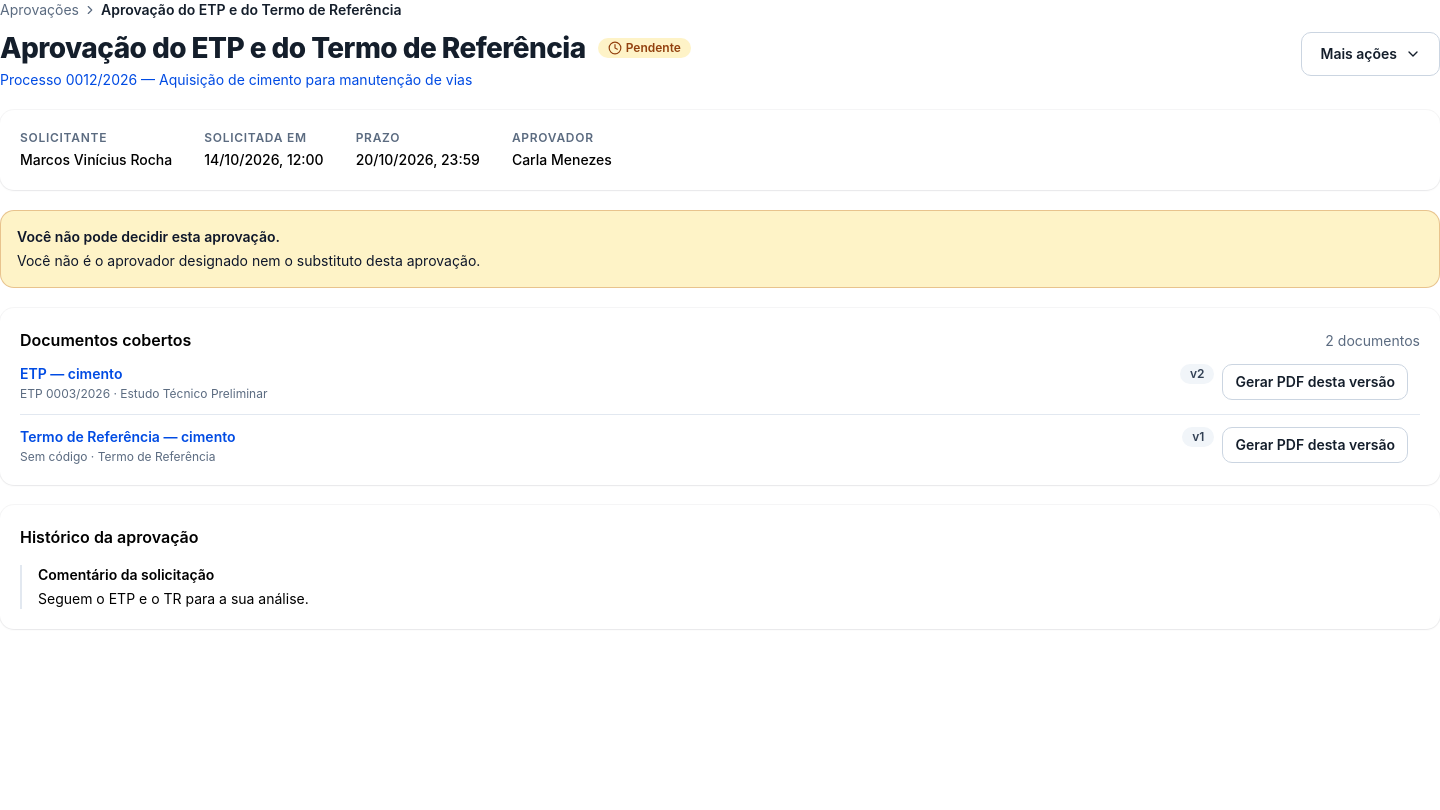
Scenario: SCR-015 · Retirar aprovação (US-053) › [FA-01] submissão avulsa: o documento voltará para rascunho; sem motivo, corpo vazio
Click the button "Mais ações" at (1371, 54), box [1302,32,1439,76]
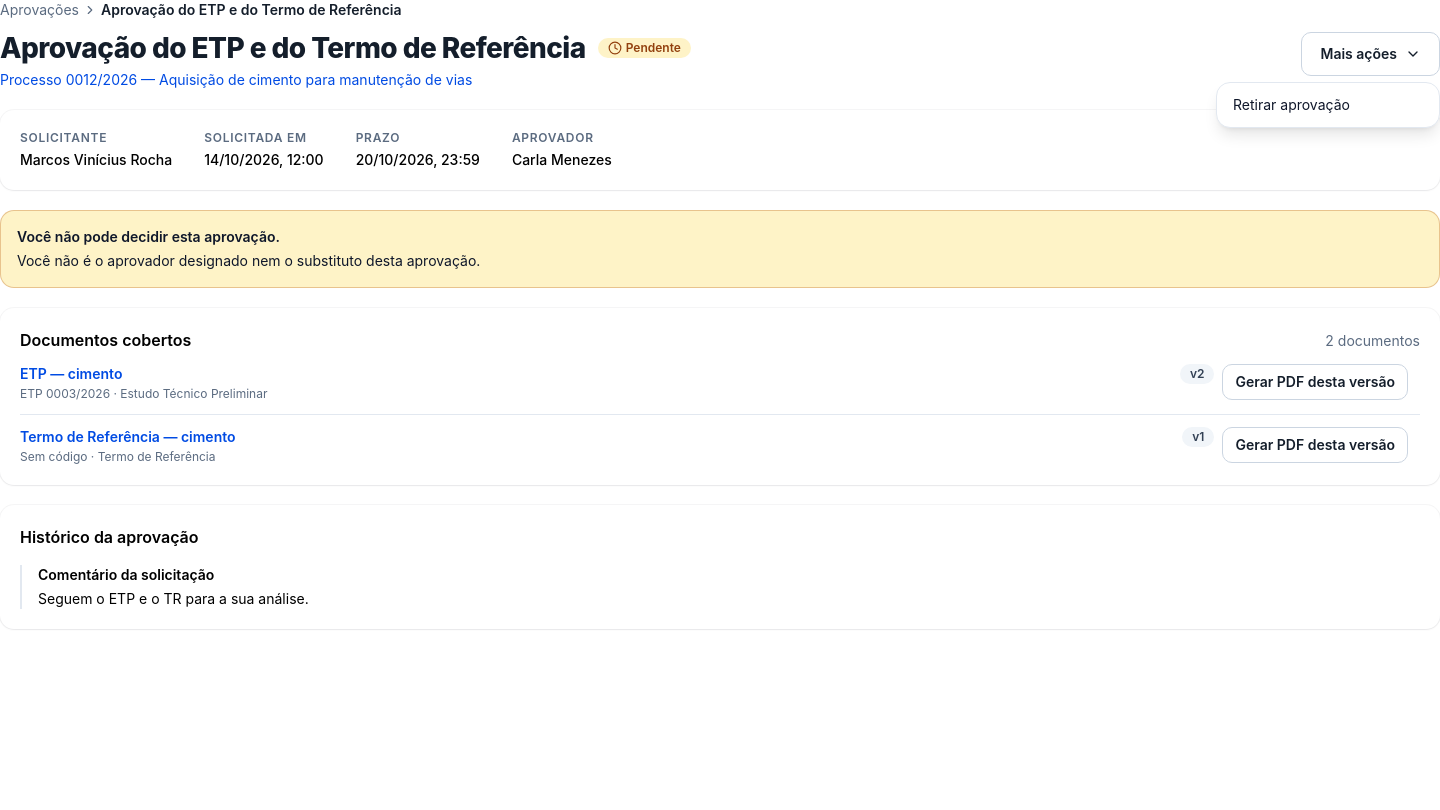
Click the menu item "Retirar aprovação" at (1291, 104), box [1233,96,1350,113]
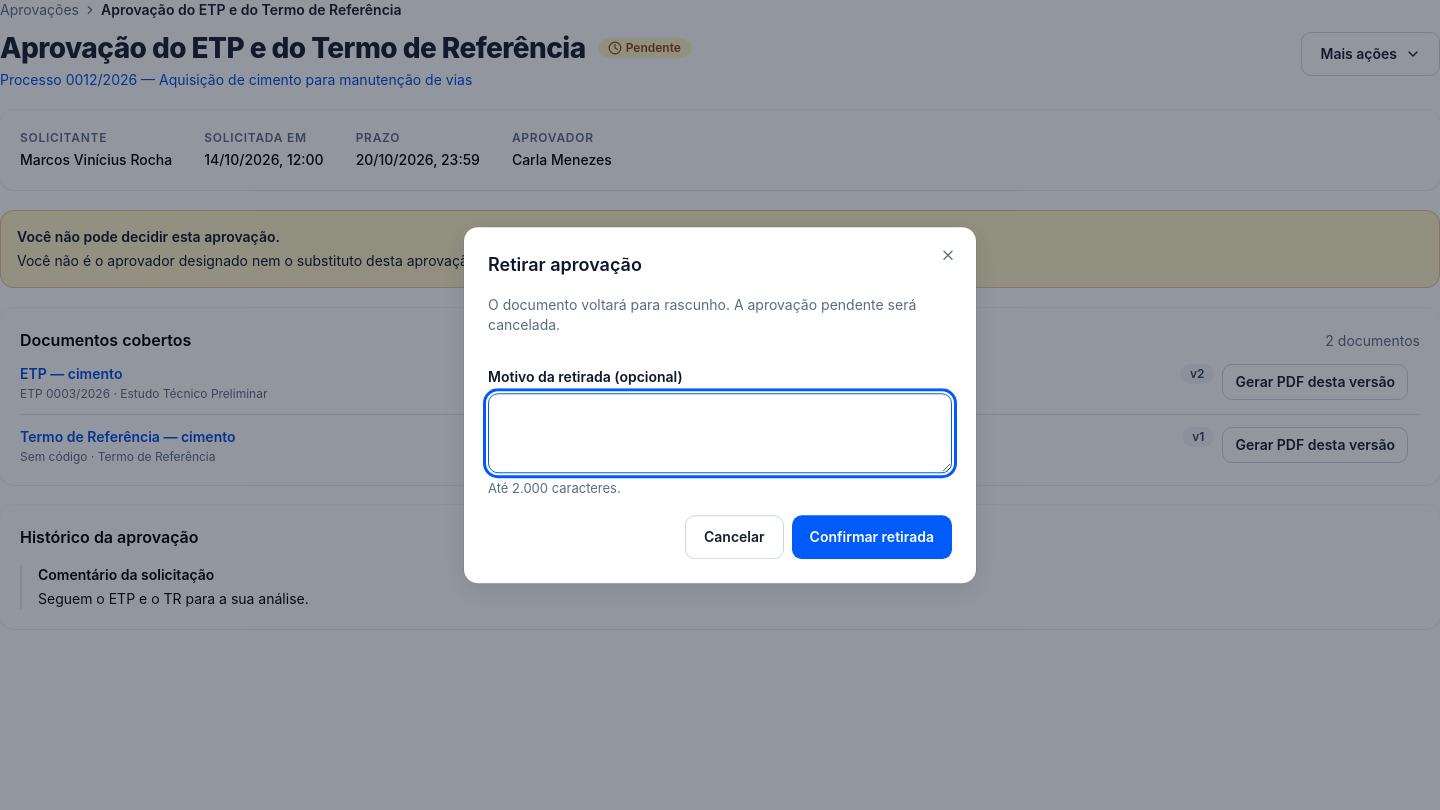
Now the text "O documento voltará para rascunho. A aprovação pendente será cancelada." is shown, box [488,295,952,335]
Click the button "Confirmar retirada" at (872, 537), box [792,515,952,559]
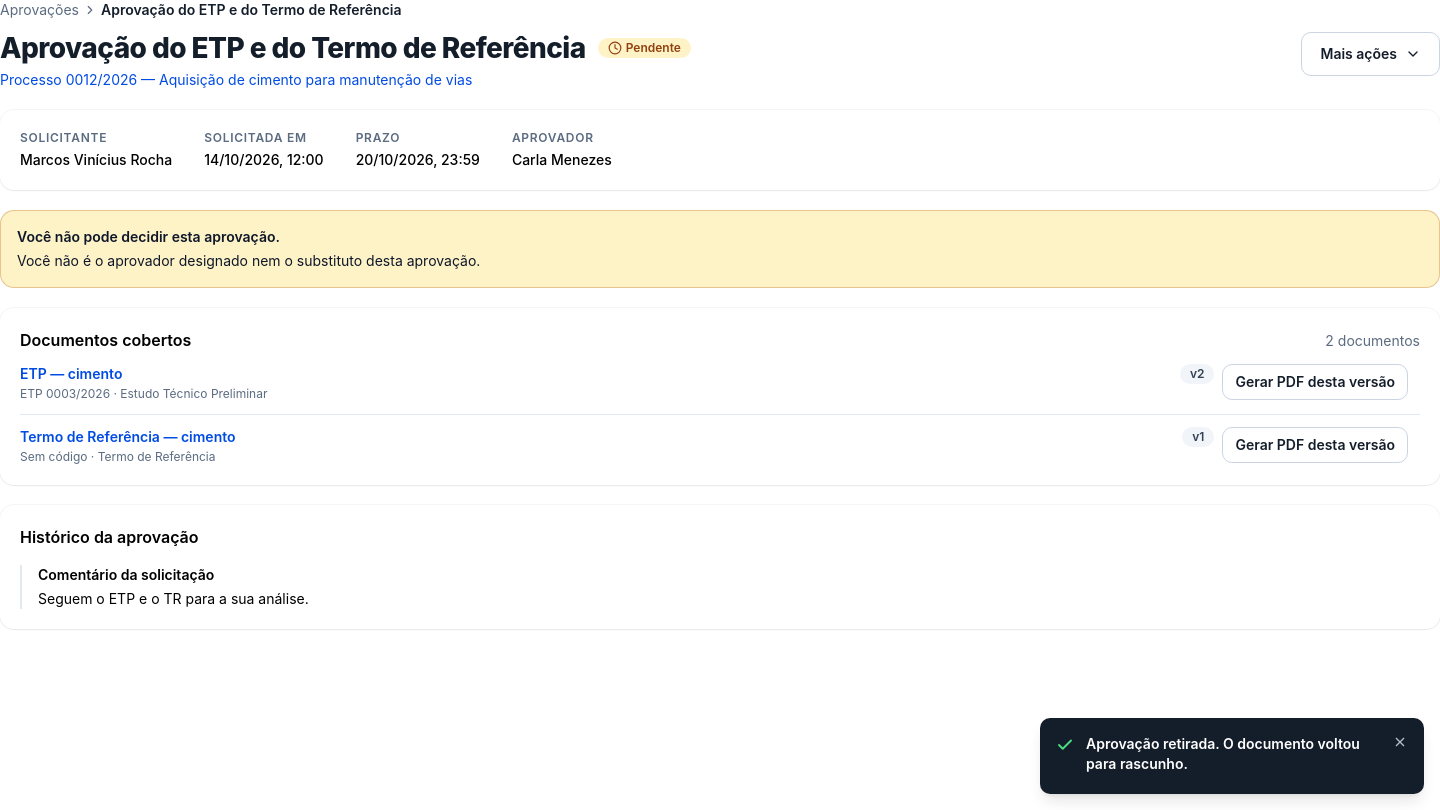
Now the text "Aprovação retirada. O documento voltou para rascunho." is shown, box [1086,734,1376,774]
